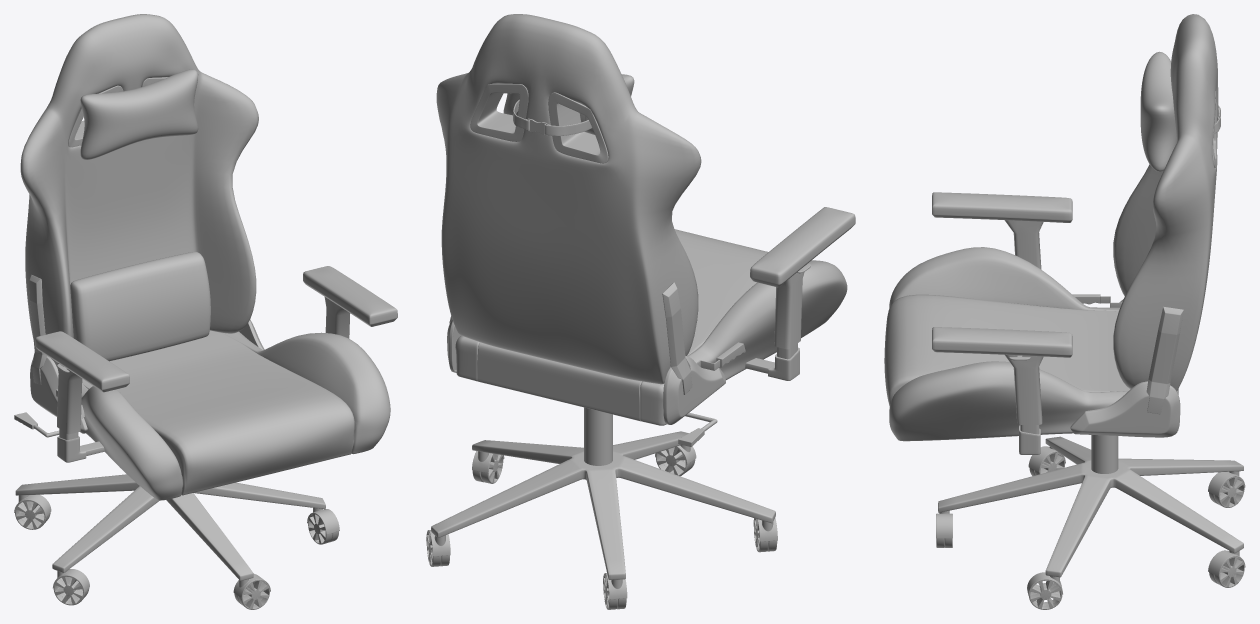
Rendered from ASM - PBR Metallic Roughness.glb.
The picture shows the model from 3 angles, left to right: view 1: azimuth 30°, elevation 25°; view 2: azimuth 150°, elevation 25°; view 3: azimuth 270°, elevation 25°; orthographic projection. The views are drawn at different scales.
Visible parts, largest first — view 1: Plane023; view 2: Plane023; view 3: Plane023.
Boxes of the visible parts, x1,y1,x2,y2 form: Plane023: (14,14,397,609); Plane023: (426,14,855,609); Plane023: (884,14,1245,609).
Size of the model in its own units: 0.8404 by 1.35 by 0.8601.
1 material, 1 textured.
